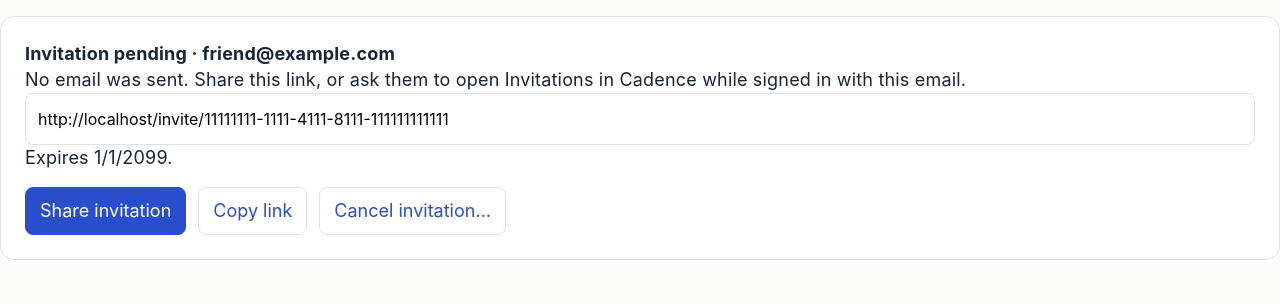
Scenario: copying an invitation gives feedback beside that invitation
This screenshot has width=1280, height=304.
Click the button "Copy link". click: (253, 211)
box: [198, 187, 307, 236]
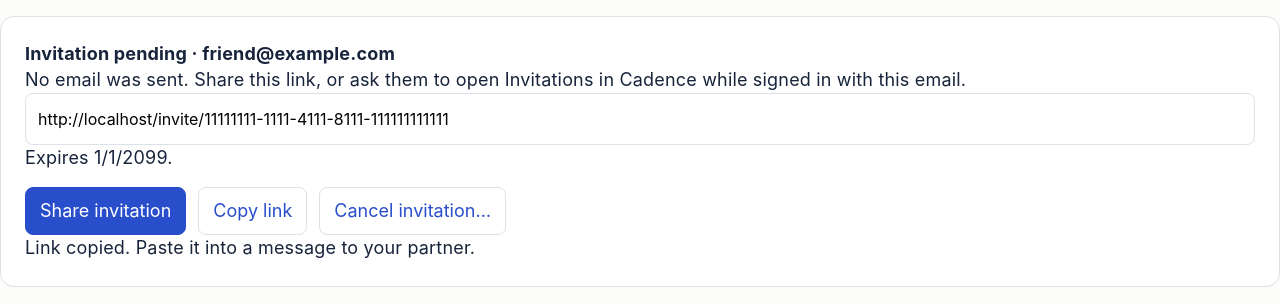
Expected: the message "Link copied. Paste it into a message to your partner." is shown, [25, 238, 475, 258]
